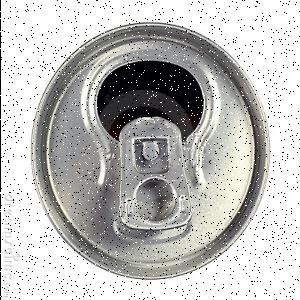Can: (31, 22, 272, 282)
